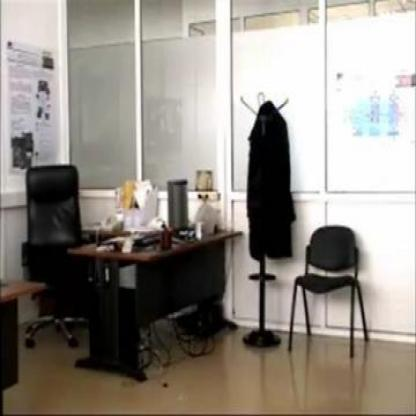other: (234, 37, 302, 87), (114, 168, 145, 217)
